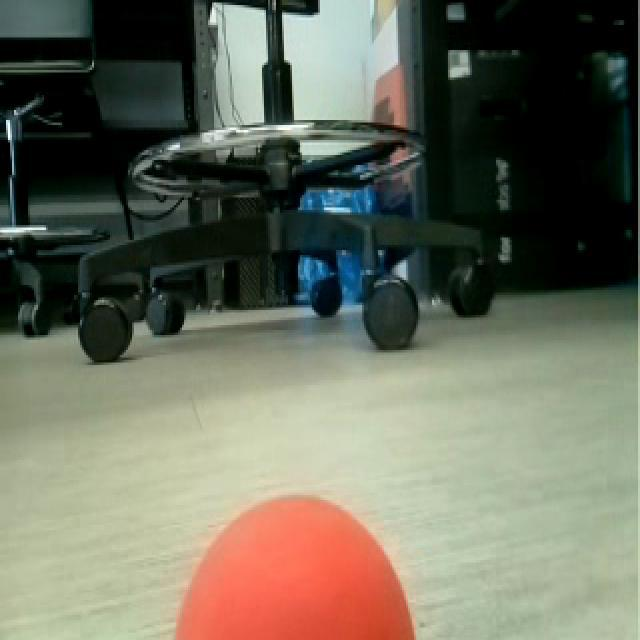oball: (162, 485, 420, 640)
